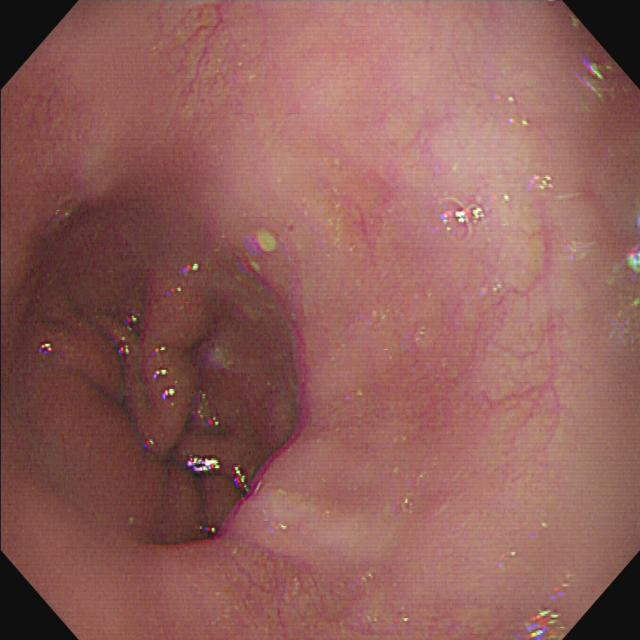I: (14, 222, 292, 546)
U: (187, 456, 221, 475), (233, 466, 251, 498)
